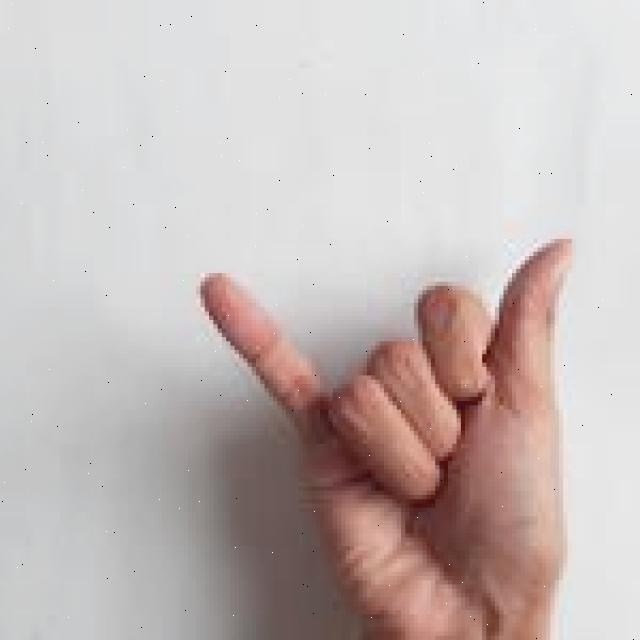Y: (186, 227, 586, 640)
